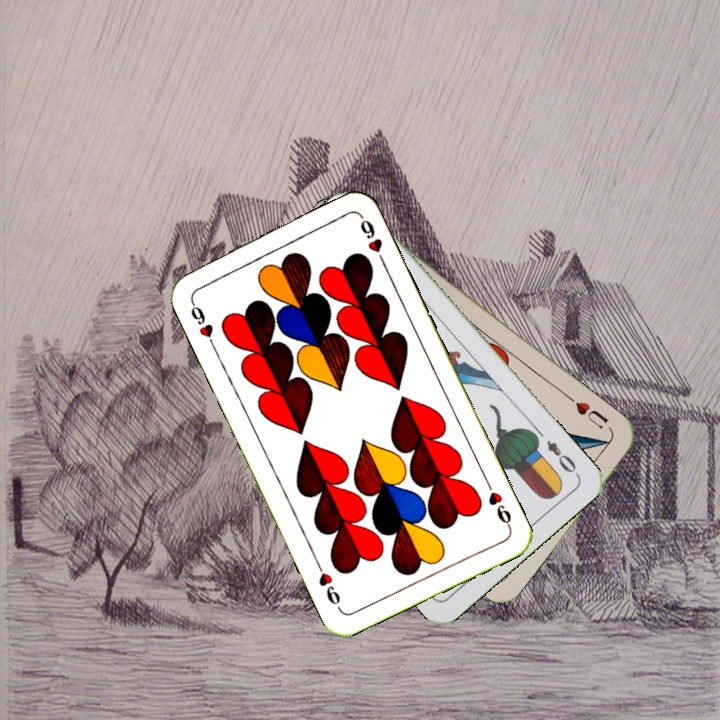EO: (542, 436, 579, 476)
H9: (481, 476, 514, 531), (186, 295, 218, 351)
HU: (564, 392, 611, 432)
